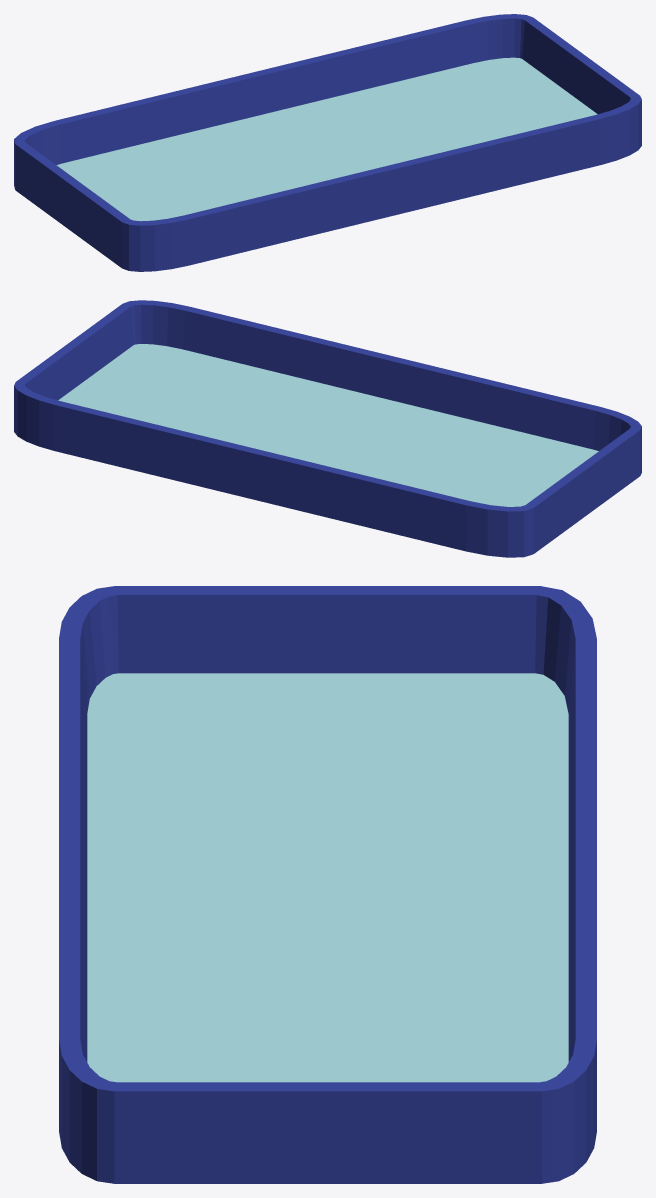
3 views of the same model, one above another, from view 1: azimuth 30°, elevation 25°; view 2: azimuth 150°, elevation 25°; view 3: azimuth 270°, elevation 25° (orthographic). The views are drawn at different scales.
Parts seen in each view (by area): view 1: Cube; view 2: Cube; view 3: Cube.
Part boxes in pixels (x1,y1,x2,y2): Cube: [14, 14, 641, 271]; Cube: [14, 300, 641, 557]; Cube: [59, 586, 596, 1183].
Size of the model in its own units: 445 by 37.92 by 200.
